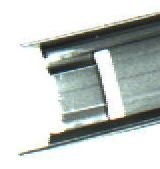press: (17, 34, 148, 150)
